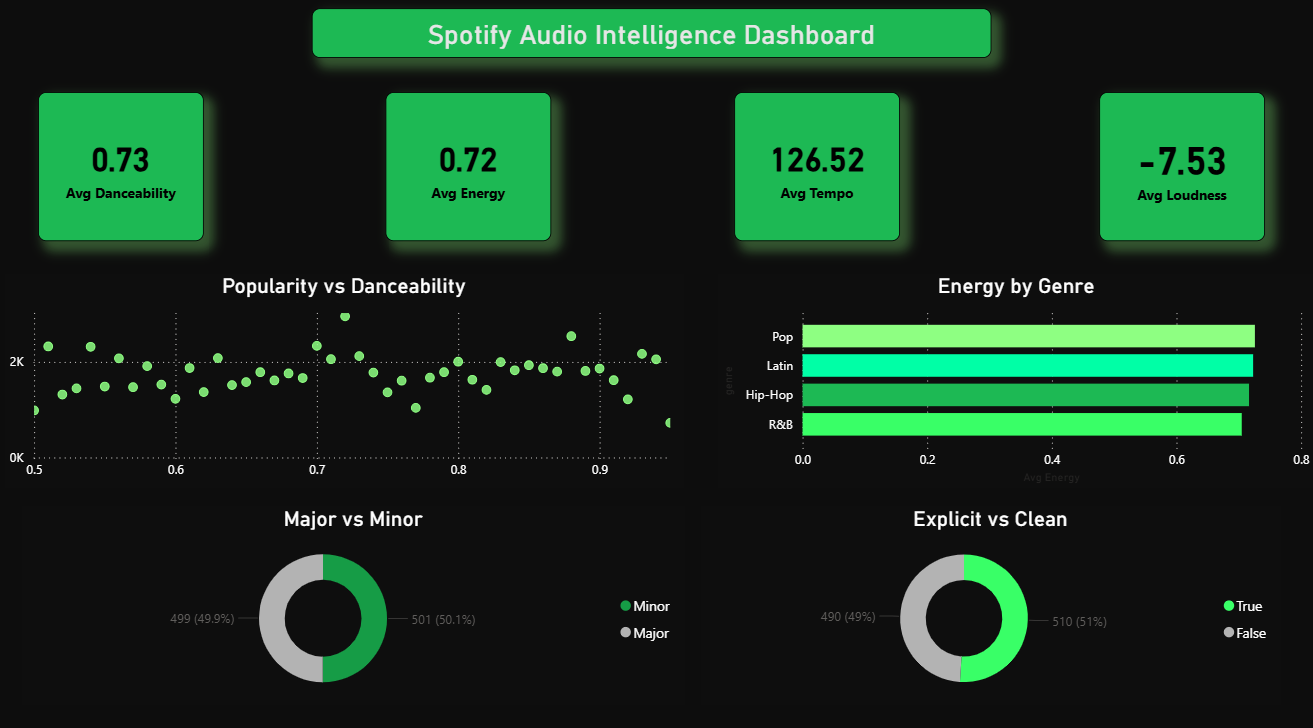

The dashboard page shown, as its layout file describes it:
{"tool":"powerbi","page":{"name":"Page 1","canvas":[1280,720],"ordinal":2},"visuals":[{"type":"card","fields":{"Values":["KPI.III"]},"box":[312,16,656,48],"z":0},{"type":"card","fields":{"Values":["KPI.Avg Danceability"]},"box":[48,96,160,144],"z":1000},{"type":"card","fields":{"Values":["KPI.Avg Energy"]},"box":[384,96,160,144],"z":2000},{"type":"card","fields":{"Values":["KPI.Avg Tempo"]},"box":[720,96,160,144],"z":3000},{"type":"card","fields":{"Values":["KPI.Avg Loudness"]},"box":[1072,96,160,144],"z":4000},{"type":"scatterChart","title":"Popularity vs Danceability","fields":{"Y":["Sum(spotify_business_dataset_1000_rows.popularity)"],"X":["spotify_business_dataset_1000_rows.danceability"]},"box":[16,272,656,208],"z":5000},{"type":"donutChart","title":"Explicit vs Clean","fields":{"Category":["spotify_business_dataset_1000_rows.explicit"],"Y":["KPI.Total Tracks"]},"box":[688,496,560,192],"z":6000},{"type":"donutChart","title":"Major vs Minor","fields":{"Category":["spotify_business_dataset_1000_rows.Mode"],"Y":["KPI.Total Tracks"]},"box":[32,496,640,192],"z":7000},{"type":"clusteredBarChart","title":"Energy by Genre","fields":{"Category":["spotify_business_dataset_1000_rows.genre"],"Y":["KPI.Avg Energy"]},"box":[704,272,576,208],"z":8000}]}

Visuals, with their boxes in screenshot pixels (x1, y1, x2, y2), scaled from the page's 1280x720 canvas onto the 1313x728 screenshot:
card - KPI.III: <bbox>320, 16, 993, 65</bbox>
card - KPI.Avg Danceability: <bbox>49, 97, 213, 243</bbox>
card - KPI.Avg Energy: <bbox>394, 97, 558, 243</bbox>
card - KPI.Avg Tempo: <bbox>739, 97, 903, 243</bbox>
card - KPI.Avg Loudness: <bbox>1100, 97, 1264, 243</bbox>
"Popularity vs Danceability" scatterChart: <bbox>16, 275, 689, 485</bbox>
"Explicit vs Clean" donutChart: <bbox>706, 502, 1280, 696</bbox>
"Major vs Minor" donutChart: <bbox>33, 502, 689, 696</bbox>
"Energy by Genre" clusteredBarChart: <bbox>722, 275, 1312, 485</bbox>
